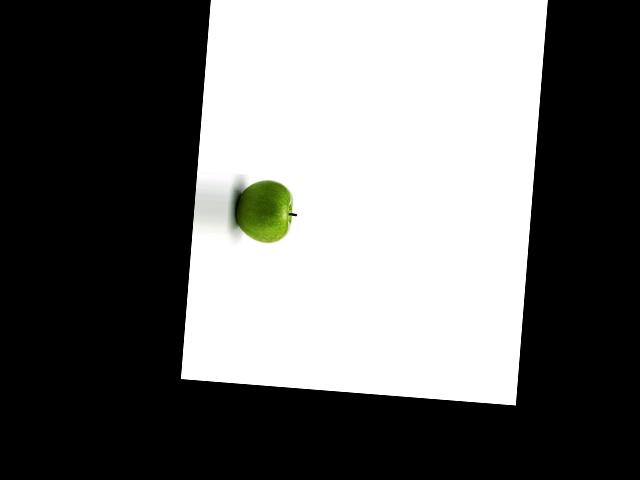apple: (231, 174, 299, 246)
